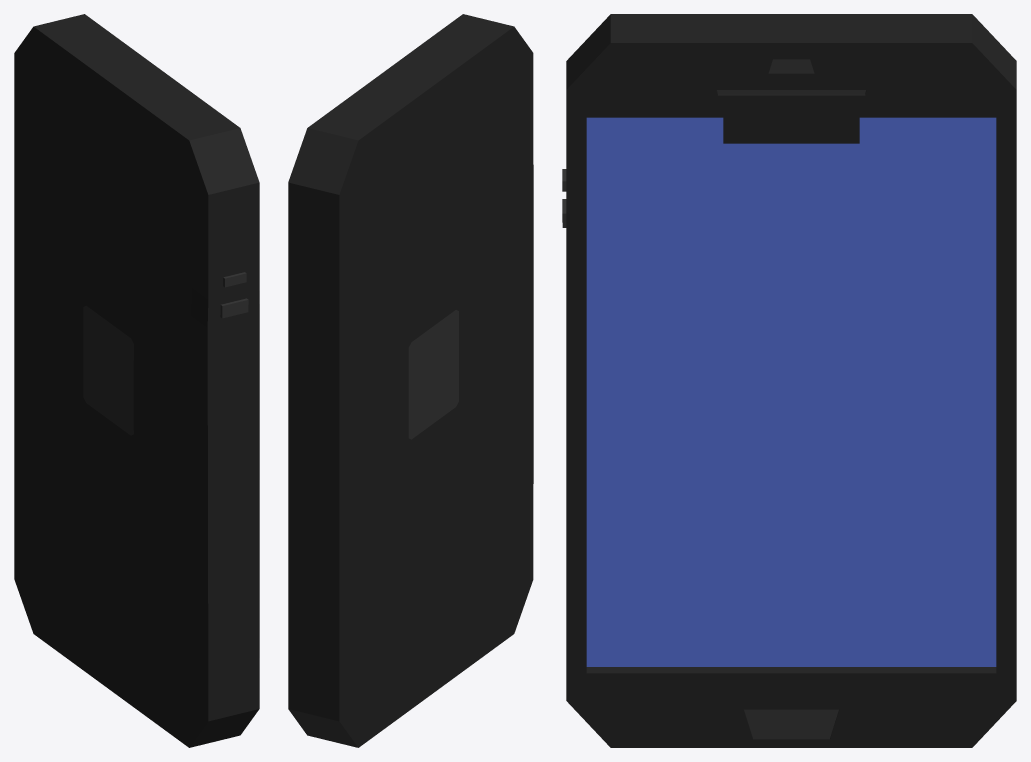
Rendered from smartphone.fbx.
3 renders of one model, left to right at view 1: azimuth 30°, elevation 25°; view 2: azimuth 150°, elevation 25°; view 3: azimuth 270°, elevation 25°, orthographic. The views are drawn at different scales.
Parts seen in each view (by area): view 1: Cube; view 2: Cube; view 3: Cube.
Part boxes in pixels (x1,y1,x2,y2): Cube: (14,14,259,747); Cube: (288,14,533,747); Cube: (562,14,1016,747).
Bounding box in the file's own units: 21.13 × 237 × 138.
